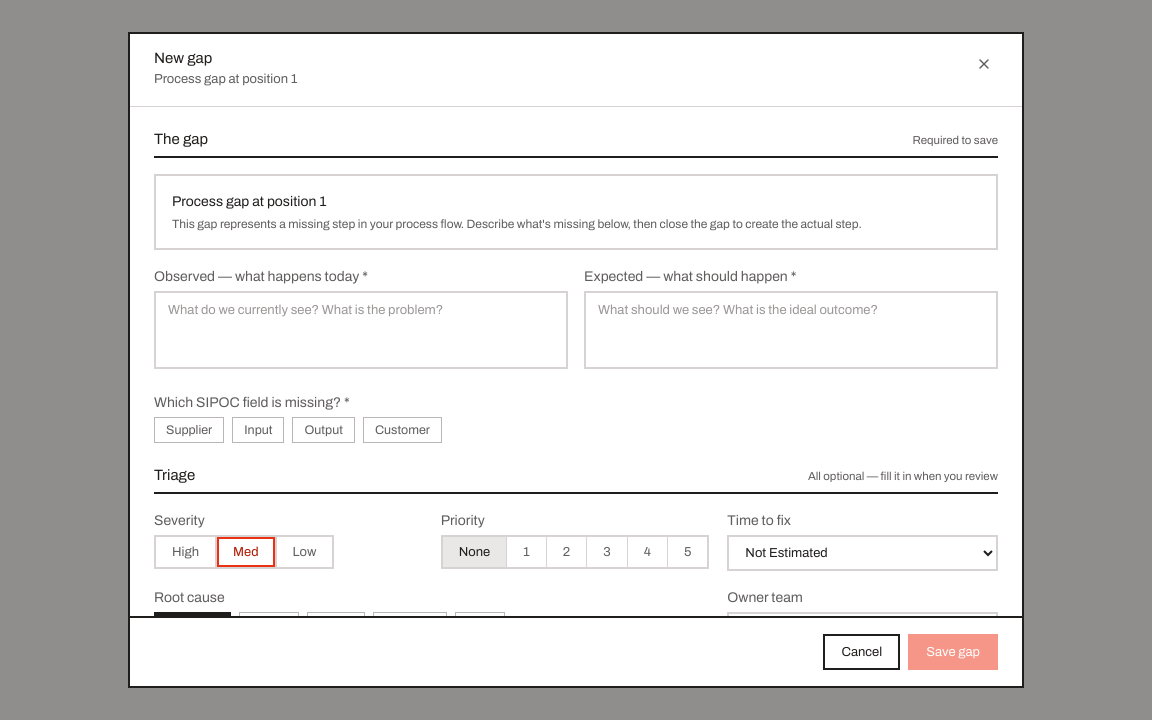
Test: GapForm process-gap order conflicts are milestone-scoped (#311) › still reports a conflict against a process gap in its own milestone
Click the radio button labelled "supplier" at (189, 430), box [154,417,224,443]
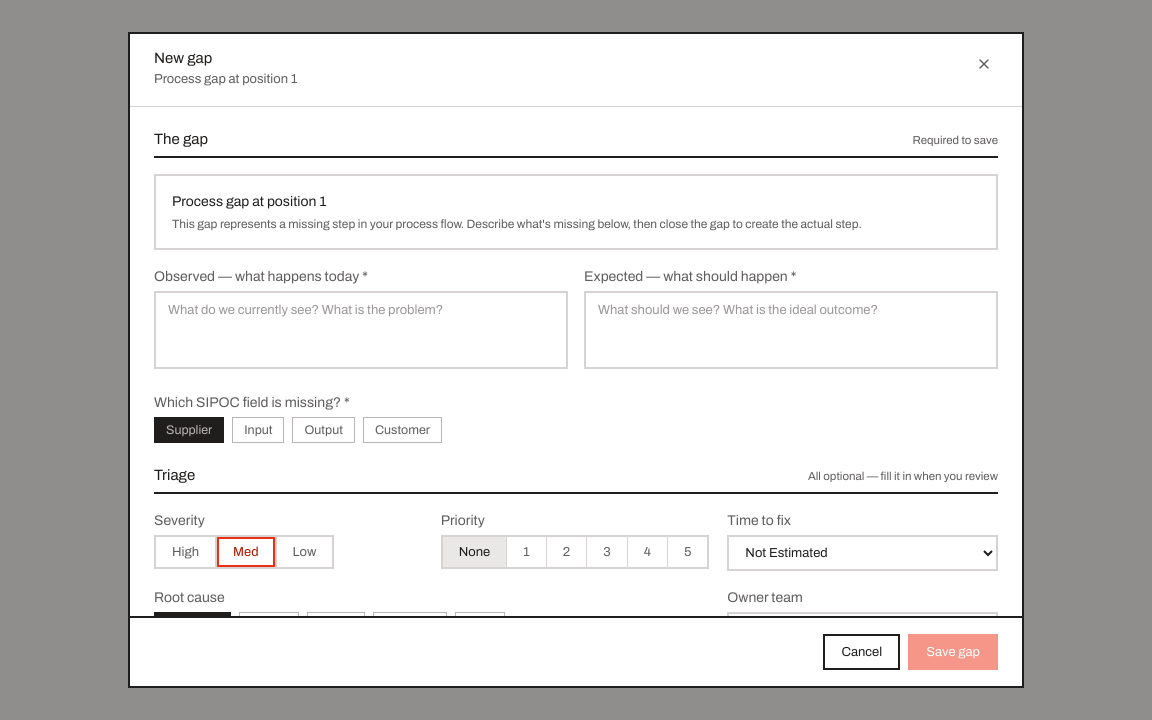
Type "Missing a step here" into the text box with placeholder "What do we currently see? What is the problem?" at (361, 330), box [154,290,568,369]
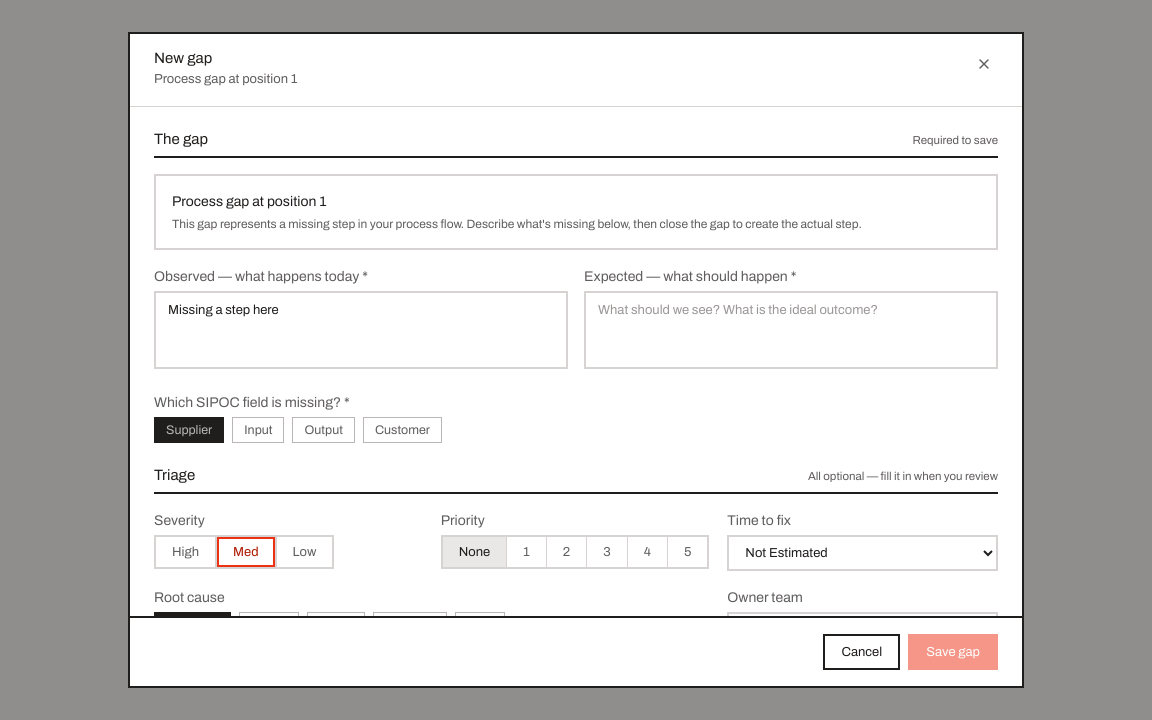
Type "The step is documented" into the text box with placeholder "What should we see? What is the ideal outcome?" at (791, 330), box [584,290,998,369]
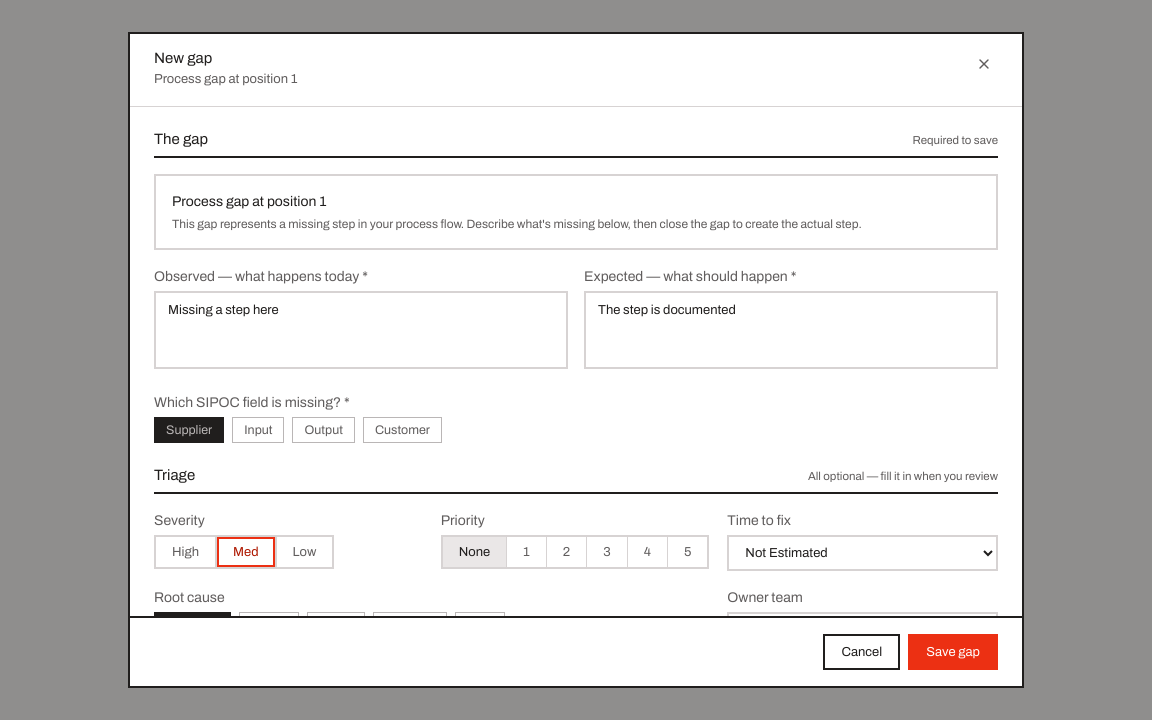
Click the button "Save gap" at (953, 652), box [908,634,998,670]
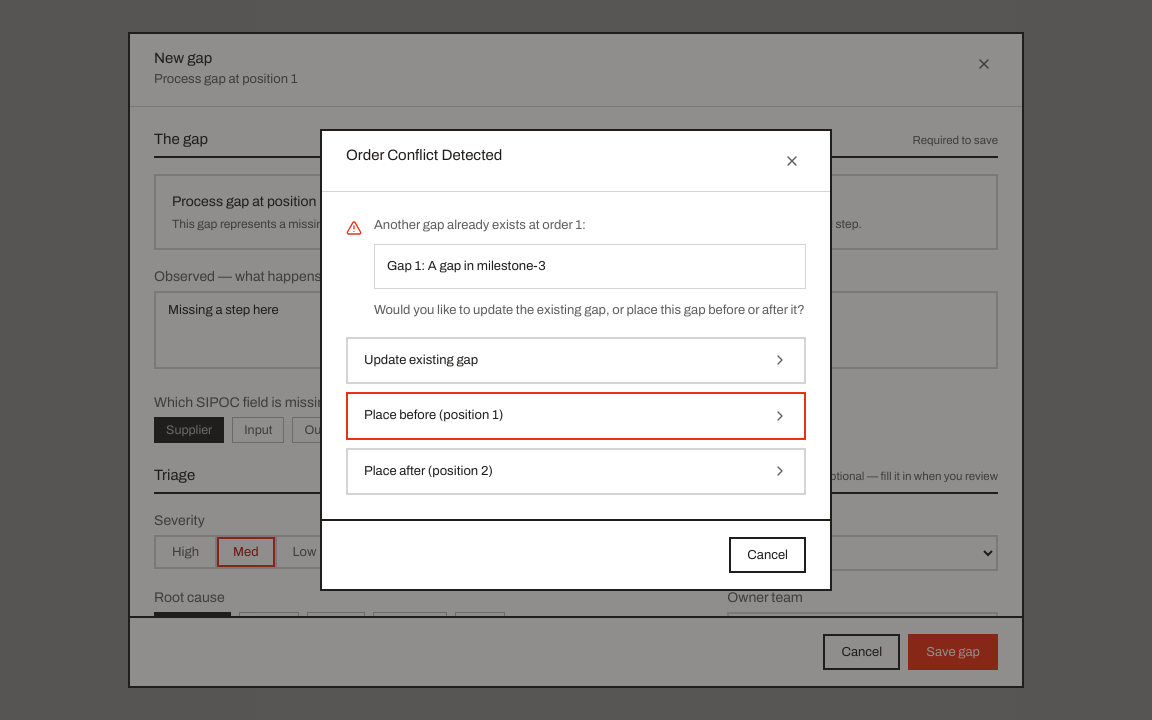
Expected: the heading "Order Conflict Detected" is shown, [346,147,502,163]
Expected: the text "Gap 1: A gap in milestone-3" is shown, [374,244,806,289]
